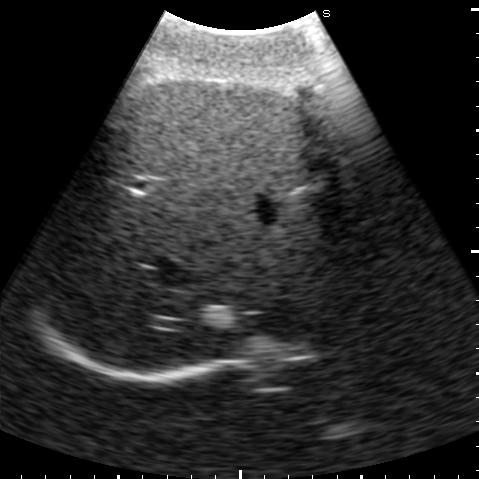S5: (113, 82, 337, 205)
S7: (44, 169, 172, 332)
S8: (91, 182, 381, 373)
Tumor: (202, 305, 233, 330)
